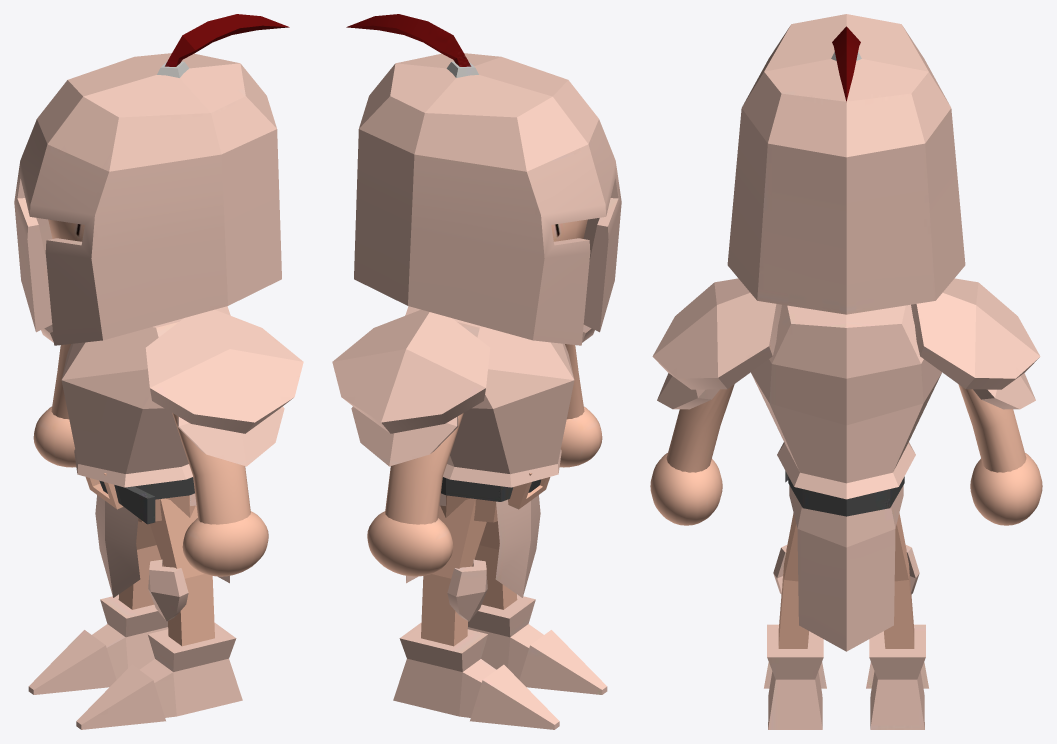
The model's file is Player.obj.
3 renders of one model, left to right at view 1: azimuth 30°, elevation 25°; view 2: azimuth 150°, elevation 25°; view 3: azimuth 270°, elevation 25°, orthographic. The views are drawn at different scales.
Visible parts, largest first — view 1: polySurface62, polySurface50, polySurface46, polySurface67; view 2: polySurface62, polySurface50, polySurface67, polySurface46; view 3: polySurface62, polySurface50, polySurface46, polySurface67.
Boxes of the visible parts, bbox=[...] form: polySurface62: bbox=[14, 14, 289, 345]; polySurface50: bbox=[28, 306, 242, 729]; polySurface46: bbox=[145, 309, 303, 576]; polySurface67: bbox=[33, 325, 76, 467]; polySurface62: bbox=[346, 14, 621, 345]; polySurface50: bbox=[393, 306, 607, 729]; polySurface67: bbox=[332, 309, 490, 576]; polySurface46: bbox=[559, 325, 602, 467]; polySurface62: bbox=[727, 14, 965, 314]; polySurface50: bbox=[751, 304, 941, 729]; polySurface46: bbox=[650, 278, 781, 525]; polySurface67: bbox=[911, 278, 1042, 525].
Size of the model in its own units: 0.9451 by 2.26 by 1.15.
Materials: 1 (1 with a texture image).
